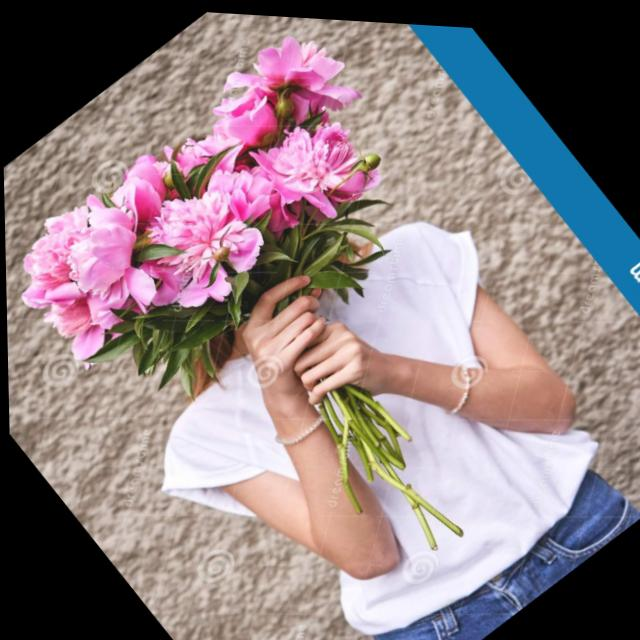Flower: (108, 160, 290, 340), (3, 167, 168, 350), (232, 91, 394, 254), (40, 132, 202, 290), (183, 9, 350, 154), (156, 107, 259, 208)
